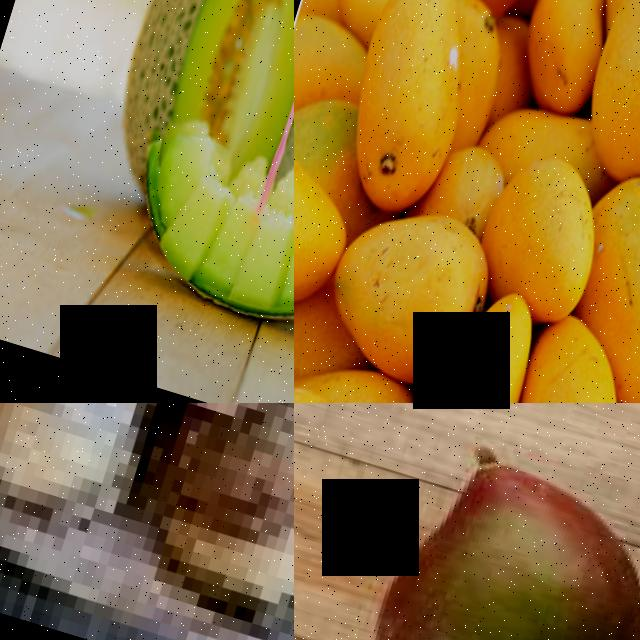mango: (336, 424, 640, 640), (326, 0, 500, 220), (324, 192, 503, 353), (373, 275, 549, 403), (294, 135, 366, 319), (474, 333, 640, 403)
melon: (115, 0, 294, 157)
